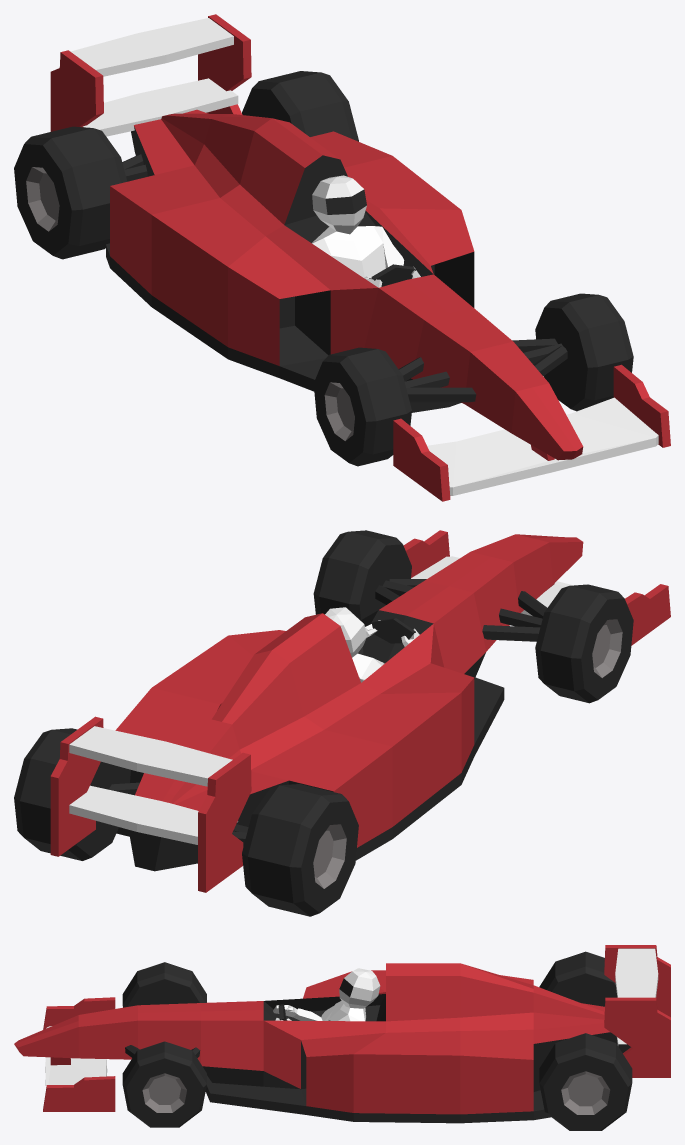
The model's file is car-formula.glb.
3 views of the same model, one above another, from view 1: azimuth 30°, elevation 25°; view 2: azimuth 150°, elevation 25°; view 3: azimuth 270°, elevation 25° (orthographic). The views are drawn at different scales.
Parts seen in each view (by area): view 1: car-formula-base, car-formula-wheel_BR, car-formula-wheel_FR, car-formula-wheel_FL, car-formula-wheel_BL; view 2: car-formula-base, car-formula-wheel_BR, car-formula-wheel_FR, car-formula-wheel_FL, car-formula-wheel_BL; view 3: car-formula-base, car-formula-wheel_BL, car-formula-wheel_FL, car-formula-wheel_BR, car-formula-wheel_FR.
Part boxes in pixels (x1,y1,x2,y2): car-formula-base: (50, 14, 670, 501); car-formula-wheel_BR: (14, 126, 127, 259); car-formula-wheel_FR: (313, 347, 411, 466); car-formula-wheel_FL: (535, 293, 633, 411); car-formula-wheel_BL: (242, 71, 358, 141); car-formula-base: (50, 530, 670, 892); car-formula-wheel_BR: (242, 784, 358, 916); car-formula-wheel_FR: (535, 584, 633, 703); car-formula-wheel_FL: (313, 530, 411, 620); car-formula-wheel_BL: (14, 728, 130, 860); car-formula-base: (14, 945, 670, 1123); car-formula-wheel_BL: (539, 1033, 632, 1130); car-formula-wheel_FL: (122, 1041, 206, 1127); car-formula-wheel_BR: (539, 951, 617, 1006); car-formula-wheel_FR: (122, 962, 206, 1007).
Size of the model in its own units: 1.8 by 0.9746 by 4.86.
Materials: 1 (1 with a texture image).
